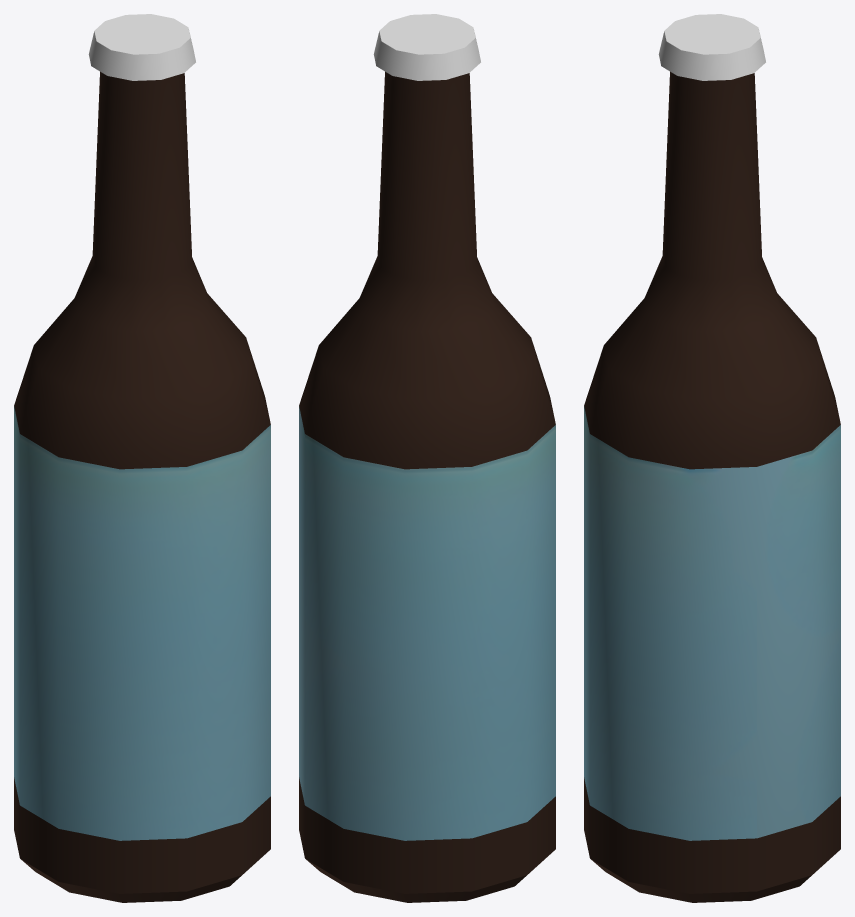
Rendered from SM_drink_beer_03.fbx.
3 renders of one model, left to right at view 1: azimuth 30°, elevation 25°; view 2: azimuth 150°, elevation 25°; view 3: azimuth 270°, elevation 25°, orthographic.
Parts seen in each view (by area): view 1: Object32287; view 2: Object32287; view 3: Object32287.
Boxes of the visible parts, x1,y1,x2,y2 form: Object32287: [14, 14, 270, 902]; Object32287: [299, 14, 555, 902]; Object32287: [584, 14, 840, 902].
Size of the model in its own units: 8.54 by 30.12 by 8.54.
